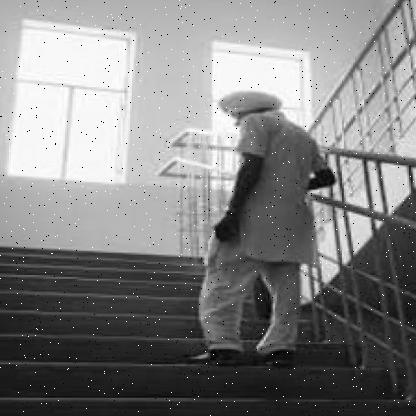stair_up: (17, 268, 242, 396)
